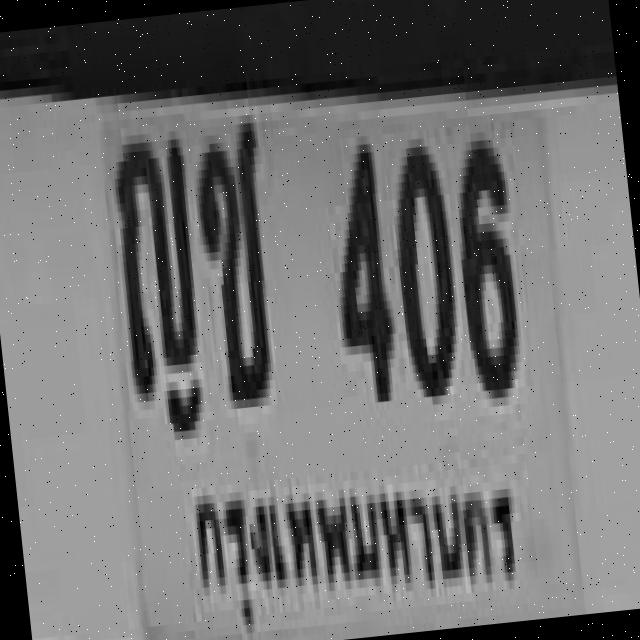0: (383, 137, 460, 390)
19ChorChang: (188, 115, 280, 402)
22YorYing: (104, 126, 204, 398)
4: (320, 135, 396, 396)
6: (445, 130, 523, 392)
Bangkok: (178, 430, 525, 635)
